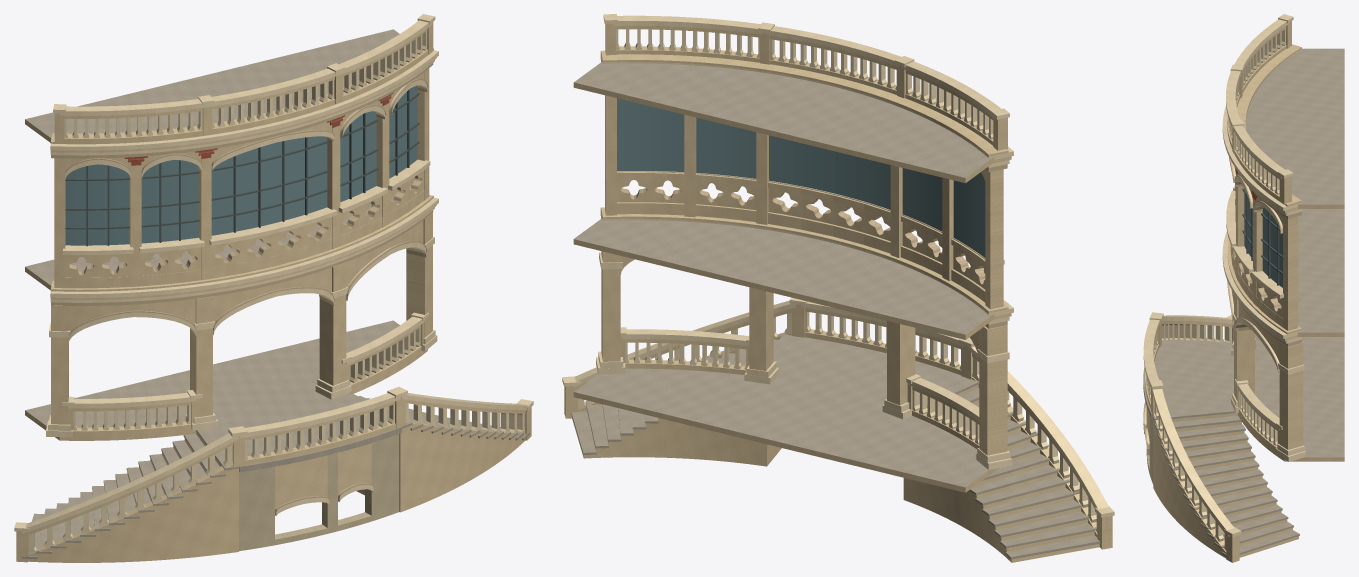
Rendered from full.glb.
3 renders of one model, left to right at view 1: azimuth 30°, elevation 25°; view 2: azimuth 150°, elevation 25°; view 3: azimuth 270°, elevation 25°, orthographic. The views are drawn at different scales.
Visible parts, largest first — view 1: 01_Basement_ceiling_and_arcade_floor, 06_west_stair.risers, 03_Open_roof_terrace, 21_Glazed_bay_02.glass, 04_Basement_front_piers, 06_east_stair.risers, 06_west_stair.treads, 21_Glazed_bay_00.glass, 21_Glazed_bay_01.glass, 06_west_stair.raking_rail.rails, 05_Landing_slab, 10_Arcade_pier_02 (+66 smaller); view 2: 01_Basement_ceiling_and_arcade_floor, 02_Loggia_ceiling_and_upper_floor, 03_Open_roof_terrace, 06_west_stair.treads, 06_west_stair.risers, 05_Landing_slab, 21_Glazed_bay_02.glass, 06_east_stair.risers, 21_Glazed_bay_04.glass, 10_Arcade_pier_00, 30_String_course_1.4, 06_east_stair.treads (+43 smaller); view 3: 03_Open_roof_terrace, 06_east_stair.treads, 01_Basement_ceiling_and_arcade_floor, 02_Loggia_ceiling_and_upper_floor, 06_east_stair.risers, 05_Landing_slab, 10_Arcade_pier_03, 06_east_stair.raking_rail.rails, 20_Upper_window_pier_05, 10_Arcade_pier_02, 06_west_stair.raking_rail.balusters, 30_String_course_1.4 (+30 smaller).
Part boxes in pixels (x1,y1,x2,y2): 01_Basement_ceiling_and_arcade_floor: [25, 320, 427, 440]; 06_west_stair.risers: [28, 432, 238, 562]; 03_Open_roof_terrace: [25, 29, 399, 142]; 21_Glazed_bay_02.glass: [211, 136, 327, 235]; 04_Basement_front_piers: [239, 434, 399, 551]; 06_east_stair.risers: [356, 427, 525, 512]; 06_west_stair.treads: [21, 428, 239, 559]; 21_Glazed_bay_00.glass: [65, 164, 129, 245]; 21_Glazed_bay_01.glass: [141, 160, 198, 243]; 06_west_stair.raking_rail.rails: [22, 433, 239, 559]; 05_Landing_slab: [209, 397, 401, 472]; 10_Arcade_pier_02: [315, 262, 351, 399]; 01_Basement_ceiling_and_arcade_floor: [573, 368, 998, 492]; 02_Loggia_ceiling_and_upper_floor: [573, 218, 994, 339]; 03_Open_roof_terrace: [573, 62, 994, 183]; 06_west_stair.treads: [919, 378, 1099, 559]; 06_west_stair.risers: [903, 384, 1099, 562]; 05_Landing_slab: [776, 337, 965, 400]; 21_Glazed_bay_02.glass: [769, 135, 890, 209]; 06_east_stair.risers: [572, 410, 781, 466]; 21_Glazed_bay_04.glass: [617, 98, 684, 172]; 10_Arcade_pier_00: [976, 325, 1012, 469]; 30_String_course_1.4: [601, 51, 1008, 156]; 06_east_stair.treads: [571, 332, 797, 455]; 03_Open_roof_terrace: [1245, 48, 1344, 208]; 06_east_stair.treads: [1152, 406, 1299, 558]; 01_Basement_ceiling_and_arcade_floor: [1229, 334, 1344, 461]; 02_Loggia_ceiling_and_upper_floor: [1277, 209, 1344, 336]; 06_east_stair.risers: [1153, 412, 1298, 558]; 05_Landing_slab: [1143, 346, 1233, 418]; 10_Arcade_pier_03: [1275, 342, 1305, 461]; 06_east_stair.raking_rail.rails: [1151, 388, 1234, 553]; 20_Upper_window_pier_05: [1283, 216, 1298, 330]; 10_Arcade_pier_02: [1231, 294, 1254, 412]; 06_west_stair.raking_rail.balusters: [1162, 324, 1232, 343]; 30_String_course_1.4: [1237, 44, 1301, 206].
Size of the model in its own units: 16.42 by 12.5 by 6.35.
9 materials, 5 textured.
